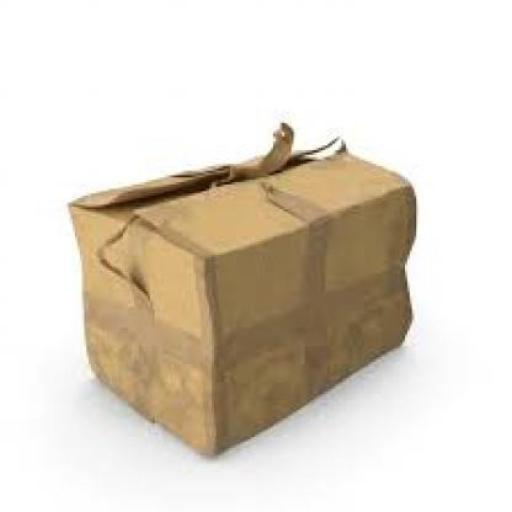cardboard: (66, 120, 414, 458)
